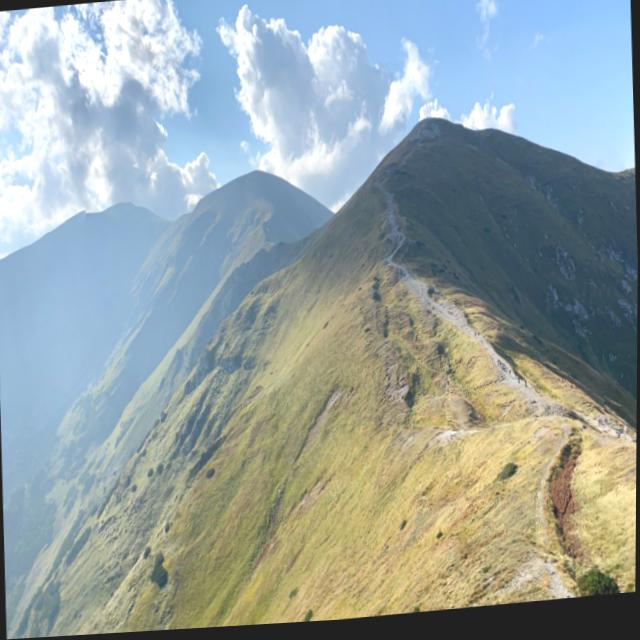Kopa Kondracka: (335, 18, 519, 219)
Krzesanica: (56, 129, 190, 274)
Malolaczniak: (176, 91, 339, 250)
